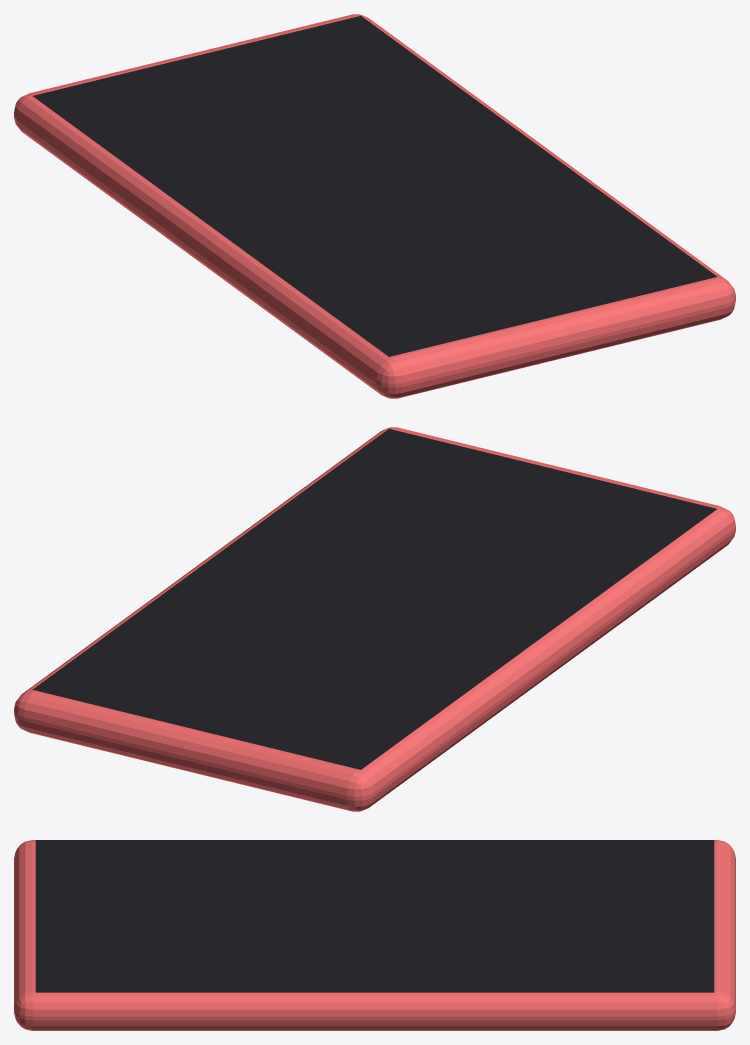
Rendered from Phone_774.glb.
3 renders of one model, top to bottom at view 1: azimuth 30°, elevation 25°; view 2: azimuth 150°, elevation 25°; view 3: azimuth 270°, elevation 25°, orthographic. The views are drawn at different scales.
Visible parts, largest first — view 1: Phone_Screen, Phone_Body; view 2: Phone_Screen, Phone_Body; view 3: Phone_Screen, Phone_Body.
Boxes of the visible parts, x1,y1,x2,y2 form: Phone_Screen: [33, 16, 717, 356]; Phone_Body: [14, 14, 735, 398]; Phone_Screen: [32, 429, 716, 769]; Phone_Body: [14, 427, 735, 811]; Phone_Screen: [35, 840, 714, 992]; Phone_Body: [14, 840, 735, 1030].
Bounding box in the file's own units: 0.0799 × 0.0085 × 0.147.
